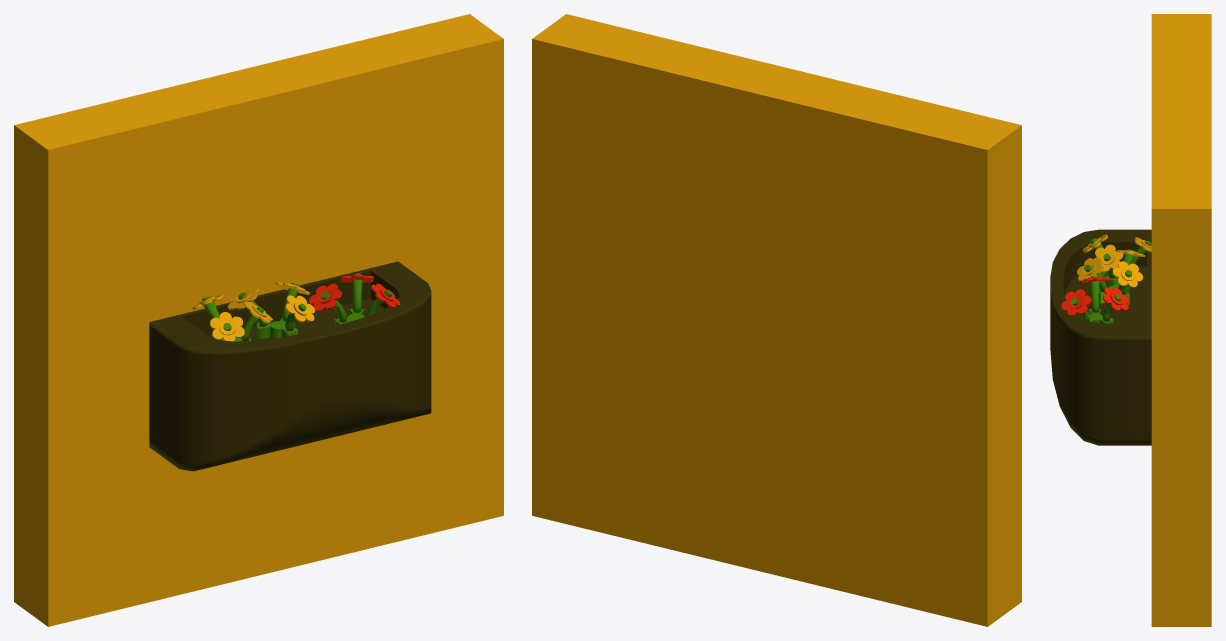
Rendered from Wall Flowers.fbx.
The picture shows the model from 3 angles, left to right: view 1: azimuth 30°, elevation 25°; view 2: azimuth 150°, elevation 25°; view 3: azimuth 270°, elevation 25°; orthographic projection. The views are drawn at different scales.
Visible parts, largest first — view 1: Cube.013, Cube.029, Cylinder.014, Cylinder.016, Cylinder.018, Cylinder.015, Cylinder.013; view 2: Cube.013; view 3: Cube.013, Cube.029, Cylinder.014, Cylinder.016, Cylinder.018, Cylinder.013, Cylinder.015, Cylinder.017.
Boxes of the visible parts, bbox=[...] form: Cube.013: bbox=[14, 14, 503, 626]; Cube.029: bbox=[149, 261, 431, 471]; Cylinder.014: bbox=[309, 274, 400, 311]; Cylinder.016: bbox=[228, 282, 314, 322]; Cylinder.018: bbox=[192, 294, 272, 341]; Cylinder.015: bbox=[238, 282, 306, 340]; Cylinder.013: bbox=[320, 273, 392, 325]; Cube.013: bbox=[532, 14, 1021, 626]; Cube.013: bbox=[1151, 14, 1211, 626]; Cube.029: bbox=[1050, 229, 1151, 445]; Cylinder.014: bbox=[1061, 277, 1129, 316]; Cylinder.016: bbox=[1077, 250, 1145, 287]; Cylinder.018: bbox=[1083, 234, 1151, 272]; Cylinder.013: bbox=[1070, 276, 1120, 323]; Cylinder.015: bbox=[1084, 249, 1134, 304]; Cylinder.017: bbox=[1089, 237, 1151, 287].
Bounding box in the file's own units: 200 × 200 × 69.87.
